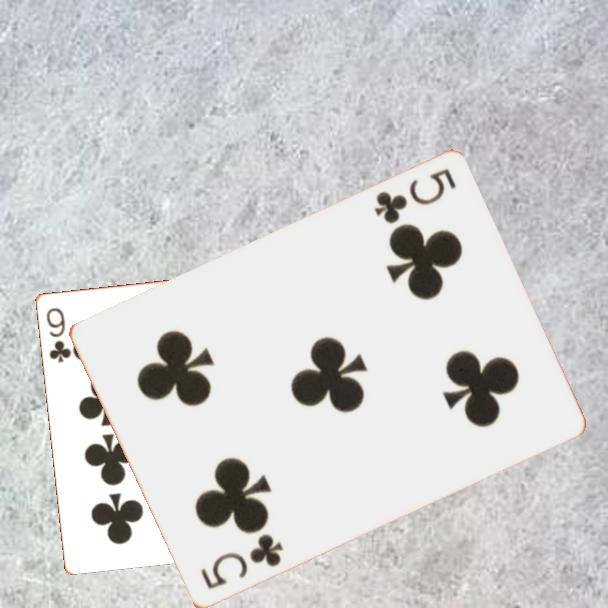c05: (370, 165, 459, 228), (196, 531, 286, 593)
c09: (42, 304, 73, 365)
